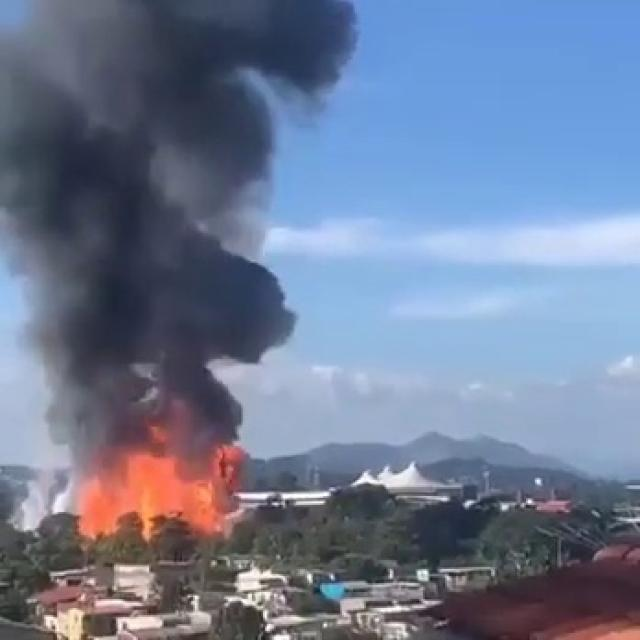Fire: (74, 456, 222, 546)
Smoke: (0, 0, 291, 450)
